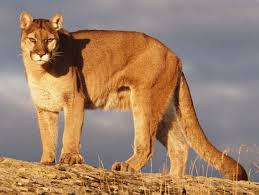Mountain Lion: (18, 9, 148, 104)
